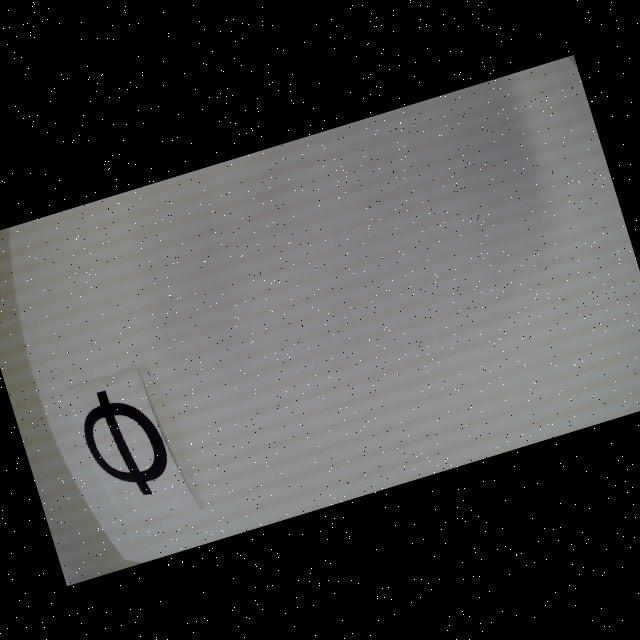PHI: (72, 376, 178, 509)
